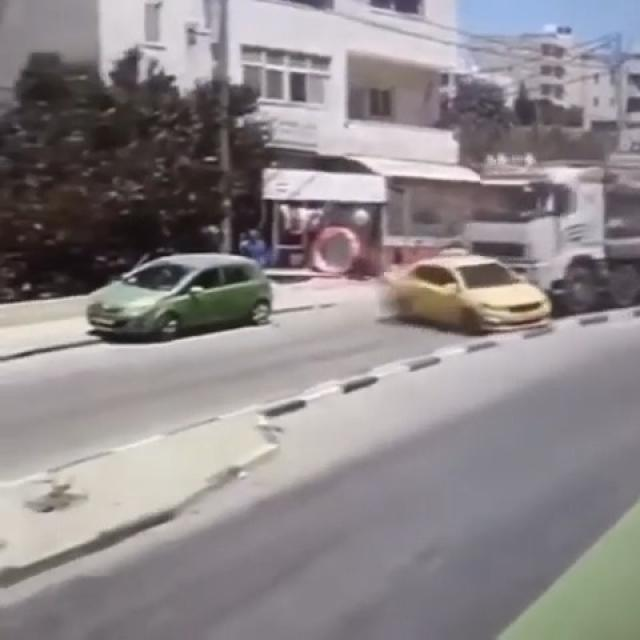accident: (383, 164, 638, 328)
non_accident: (78, 250, 290, 338)
